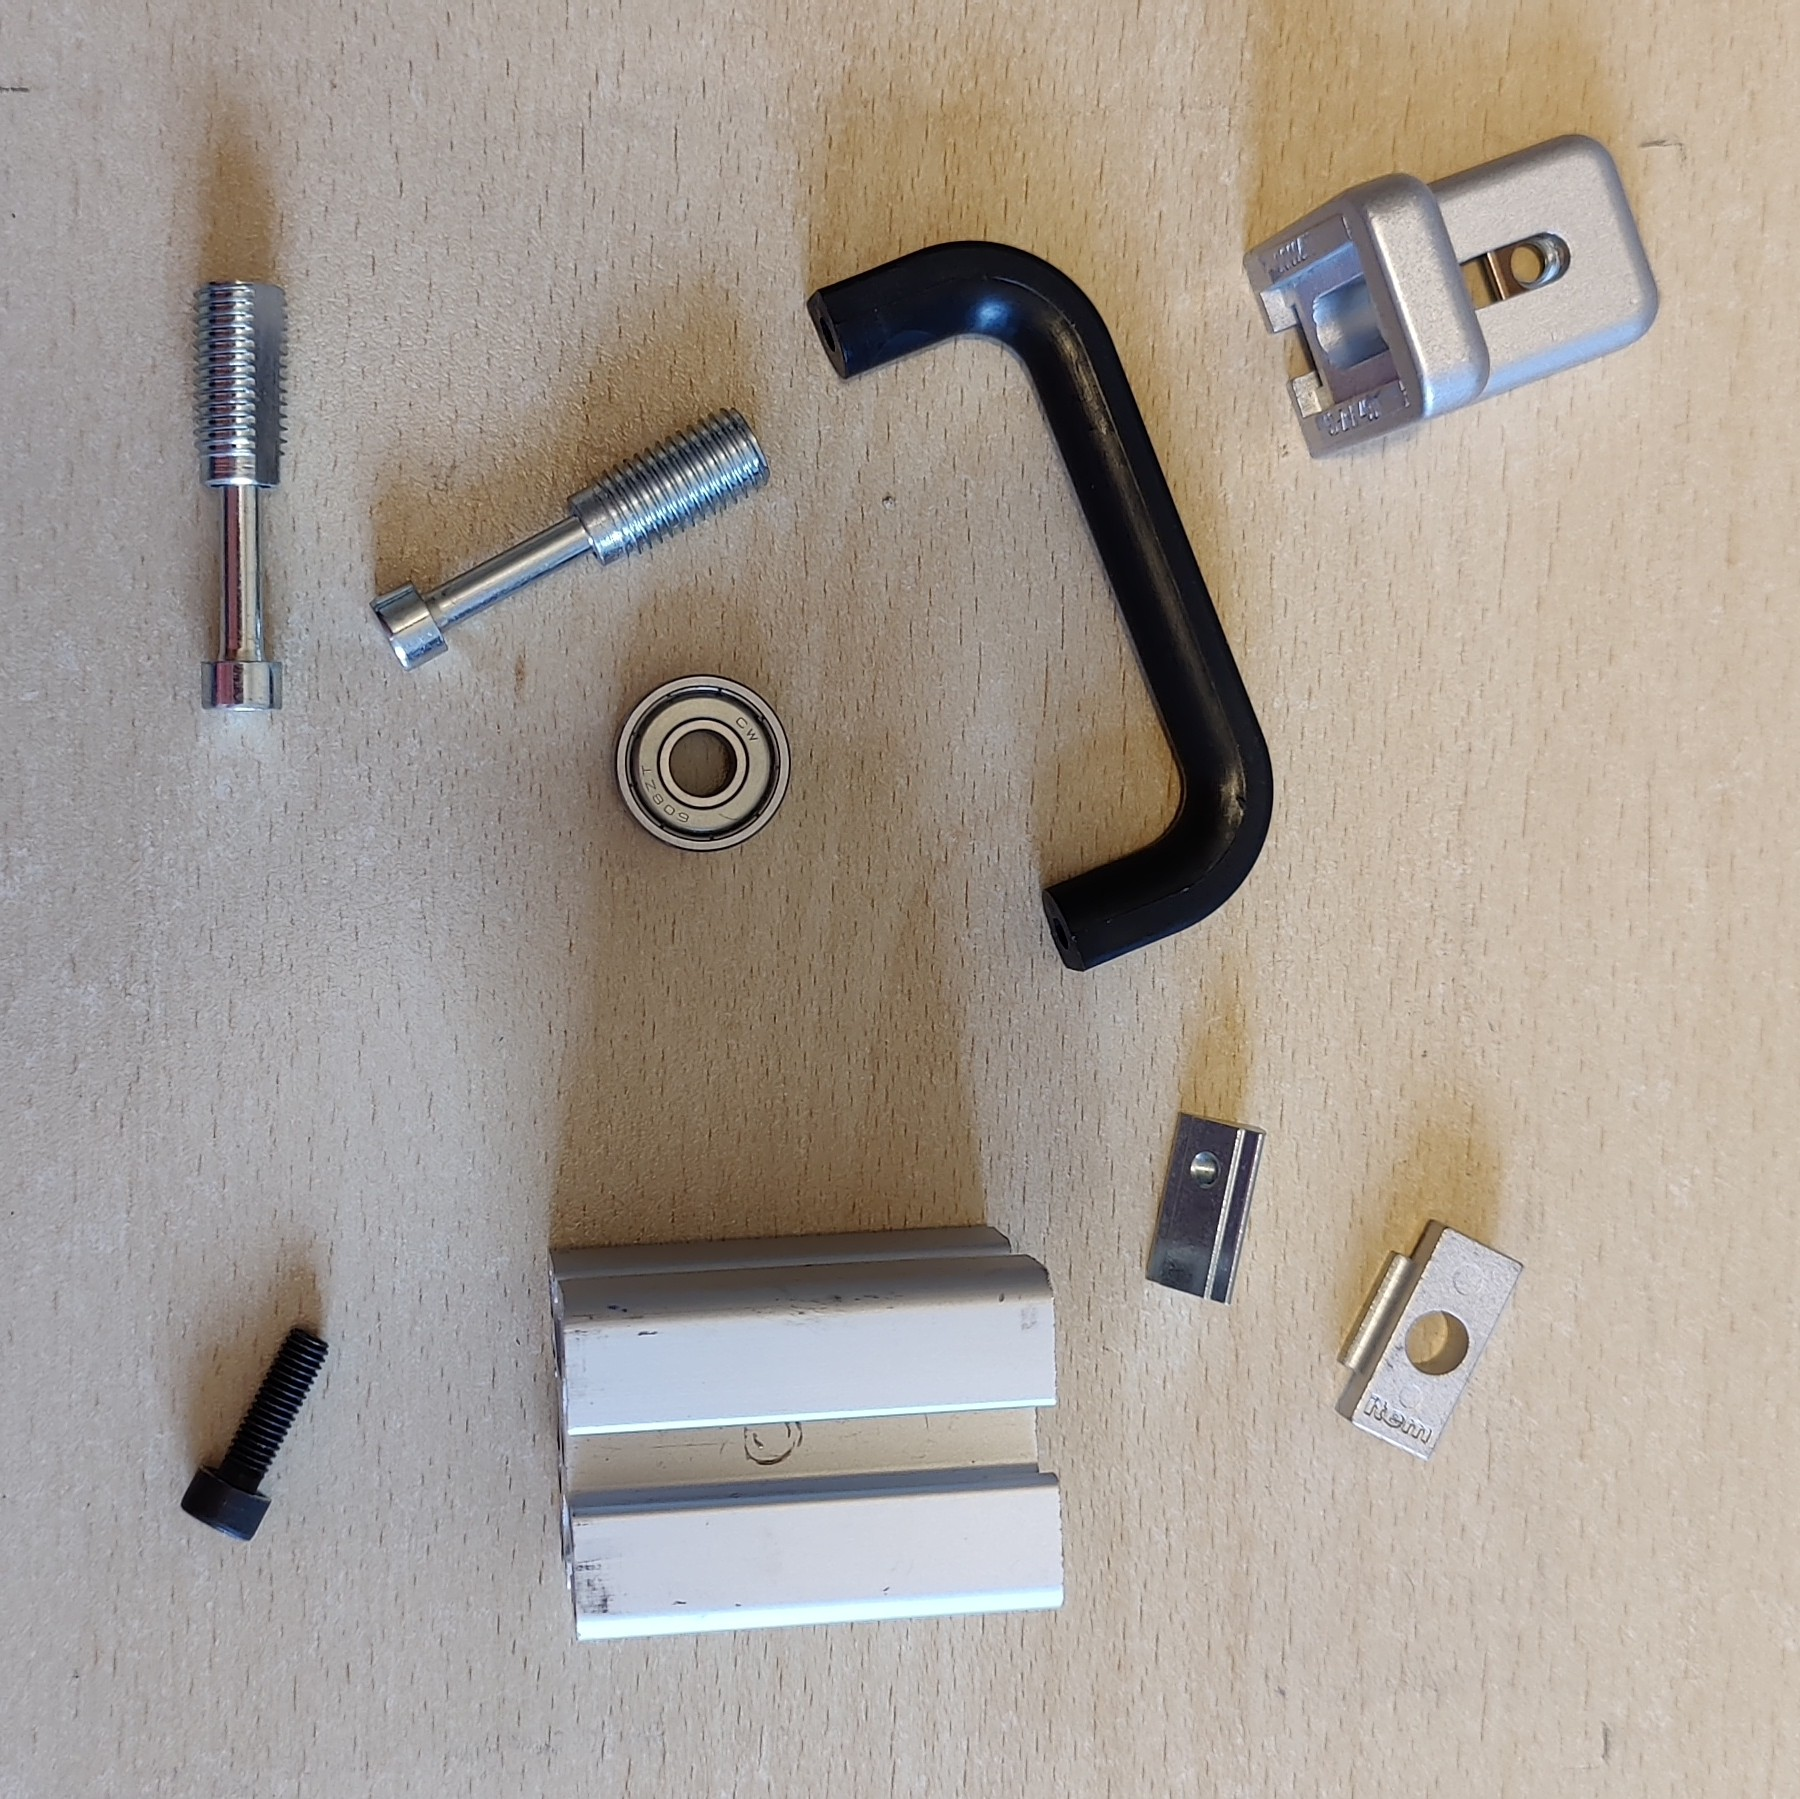Aluminium Extension: (543, 1222, 1067, 1646)
Ball Bearing: (614, 672, 794, 853)
Multiwinkel: (1242, 132, 1662, 461)
Pull Handle: (804, 236, 1275, 974)
Shoulder Socket Head Cap Screw: (367, 404, 776, 674), (188, 277, 293, 718)
Socket Head Cap Screw: (176, 1321, 329, 1545)
T Nut Square: (1332, 1217, 1523, 1461)
T Spring Nut: (1141, 1107, 1270, 1306)
